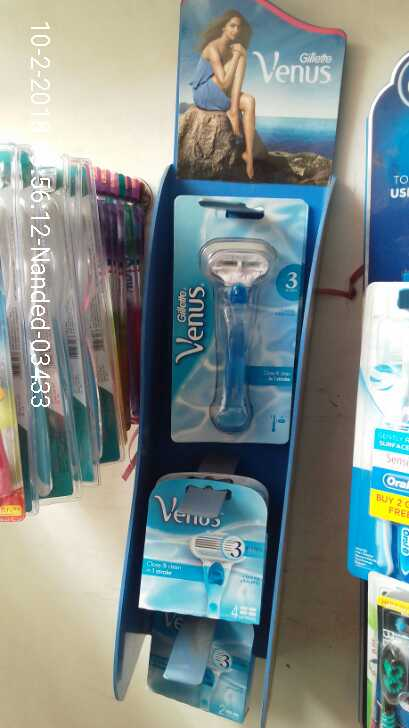venus: (166, 186, 296, 448), (129, 469, 265, 624)
